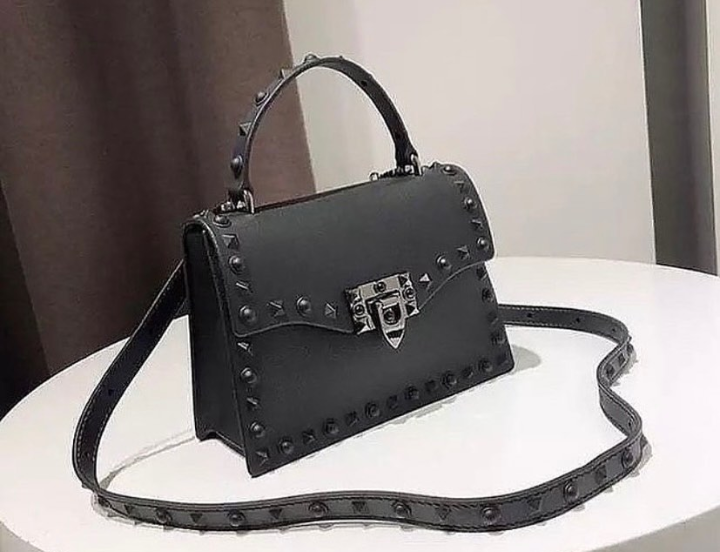cartera: (153, 45, 533, 485)
cuero: (298, 221, 367, 258)
